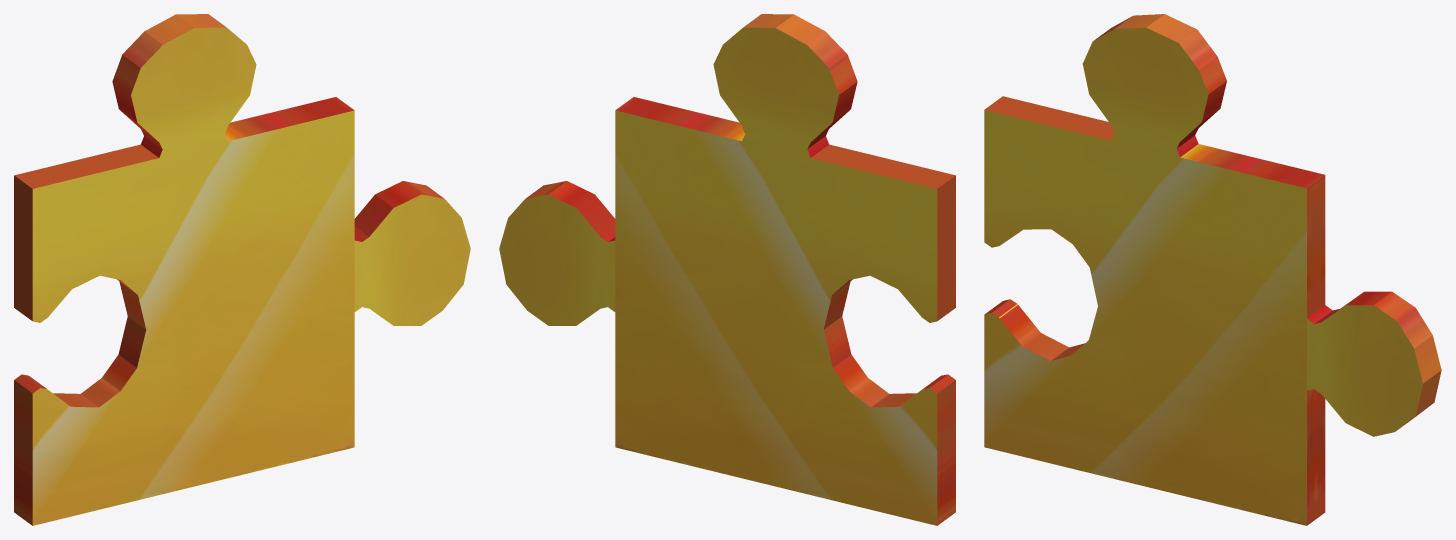
Rendered from suipian1.FBX.
The picture shows the model from 3 angles, left to right: view 1: azimuth 30°, elevation 25°; view 2: azimuth 150°, elevation 25°; view 3: azimuth 330°, elevation 25°; orthographic projection.
Visible parts, largest first — view 1: suipian1; view 2: suipian1; view 3: suipian1.
Boxes of the visible parts, box(x1,y1,x2,y2) form: suipian1: box(14, 14, 470, 525); suipian1: box(499, 14, 955, 525); suipian1: box(984, 14, 1441, 525).
Size of the model in its own units: 428 by 428 by 31.41.
1 material, 1 textured.
